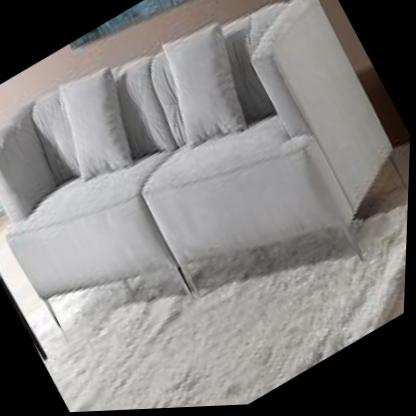Carpet: (46, 261, 385, 413)
Sofa: (0, 0, 416, 416)
